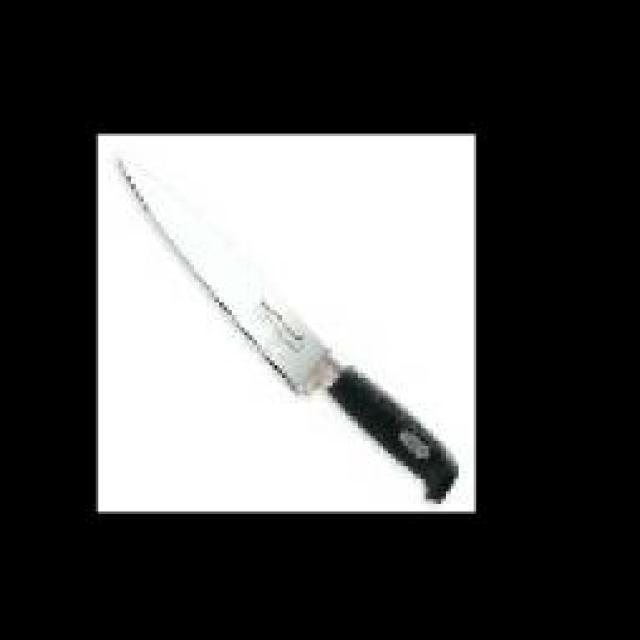knife: (116, 155, 461, 514)
